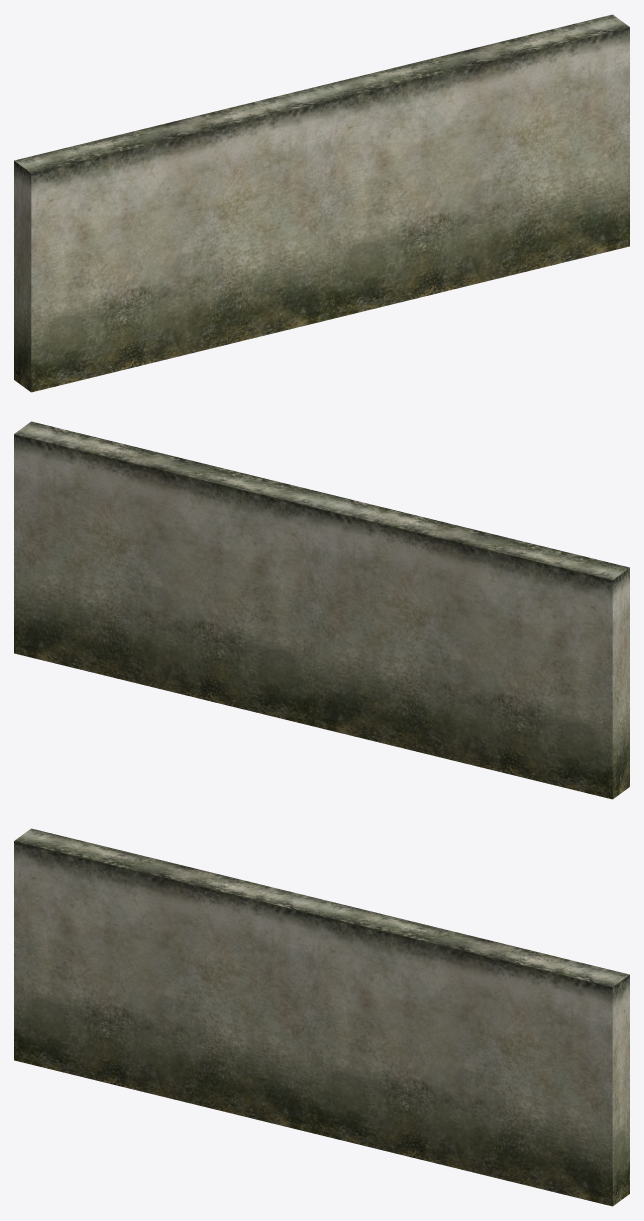
Rendered from LowWallStucco_20.fbx.
3 views of the same model, one above another, from view 1: azimuth 30°, elevation 25°; view 2: azimuth 150°, elevation 25°; view 3: azimuth 330°, elevation 25° (orthographic).
Parts seen in each view (by area): view 1: lod_high; view 2: lod_high; view 3: lod_high.
Part boxes in pixels (x1=…): lod_high: x1=14, y1=14, x2=629, y2=392; lod_high: x1=14, y1=421, x2=629, y2=799; lod_high: x1=14, y1=828, x2=629, y2=1206.
Bounding box in the file's own units: 2000 × 700 × 100.
Materials: 1 (1 with a texture image).
